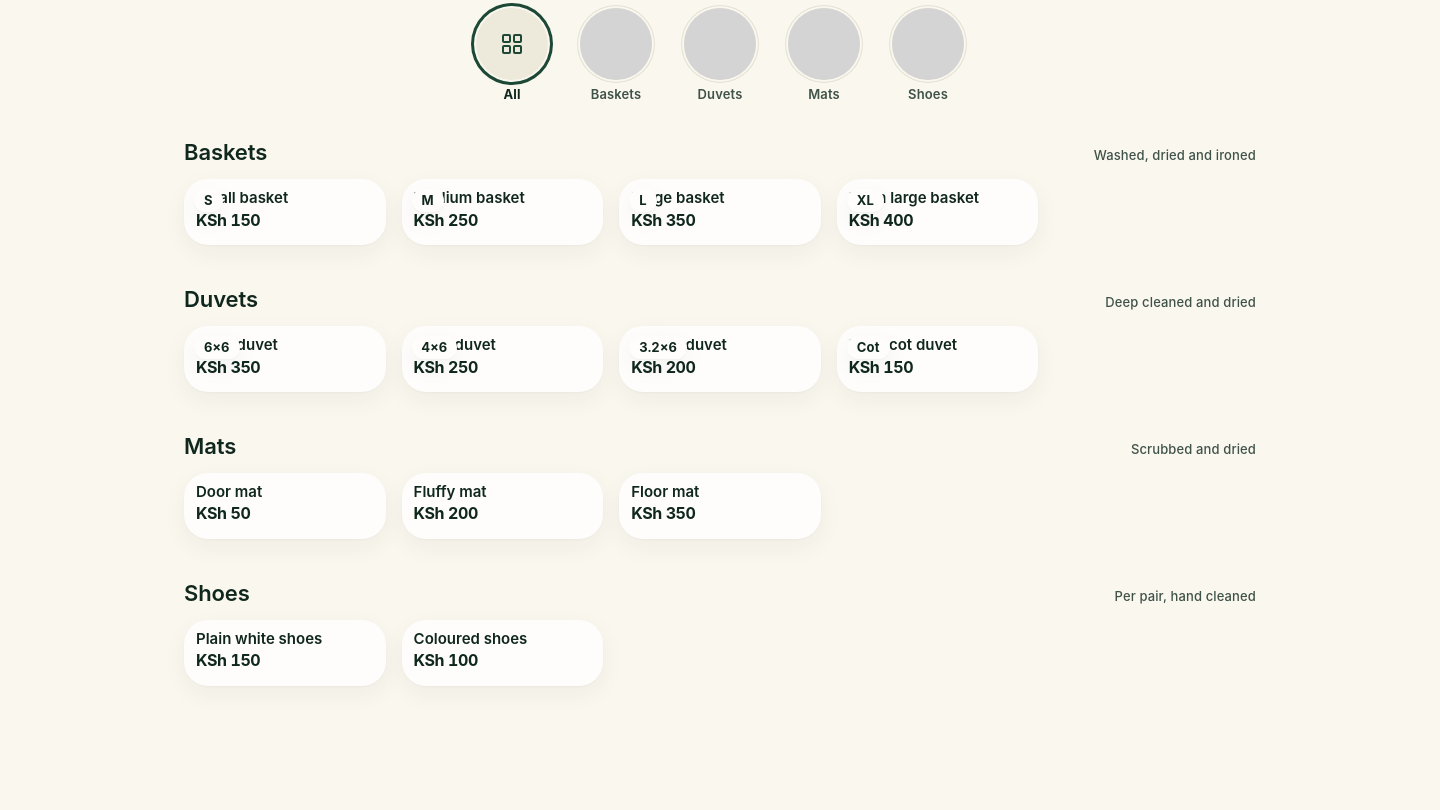
Scenario: LaundryOrder › returns within a week only, and notes a same-day return
Click the button with aria-label "Add Door mat": [285, 506] box [184,473,386,539]
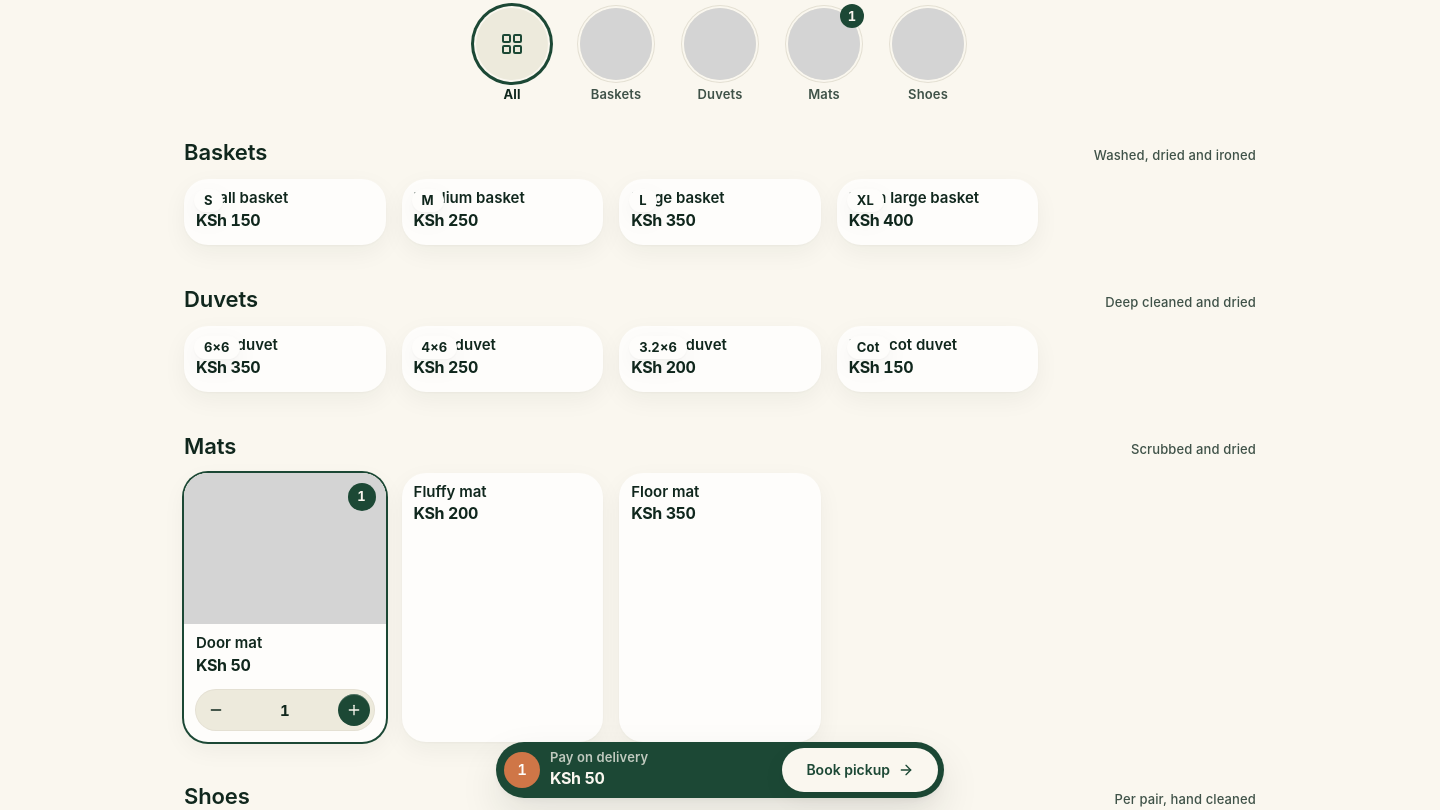
Click the button "Book pickup": [860, 770] box [782,748,938,792]
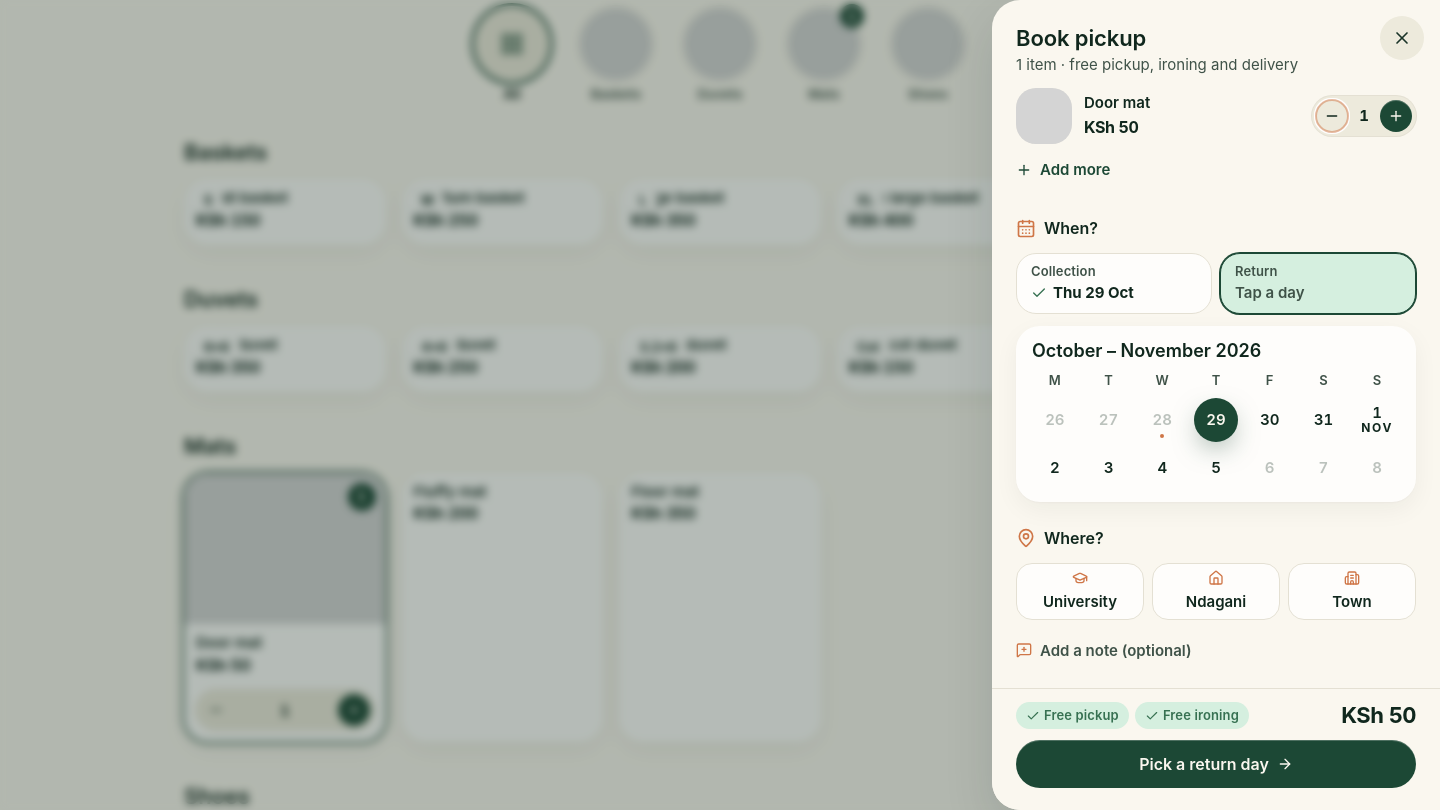
Click the radio button labelled "Return Tap a day": [1318, 283] box [1220,253,1416,314]
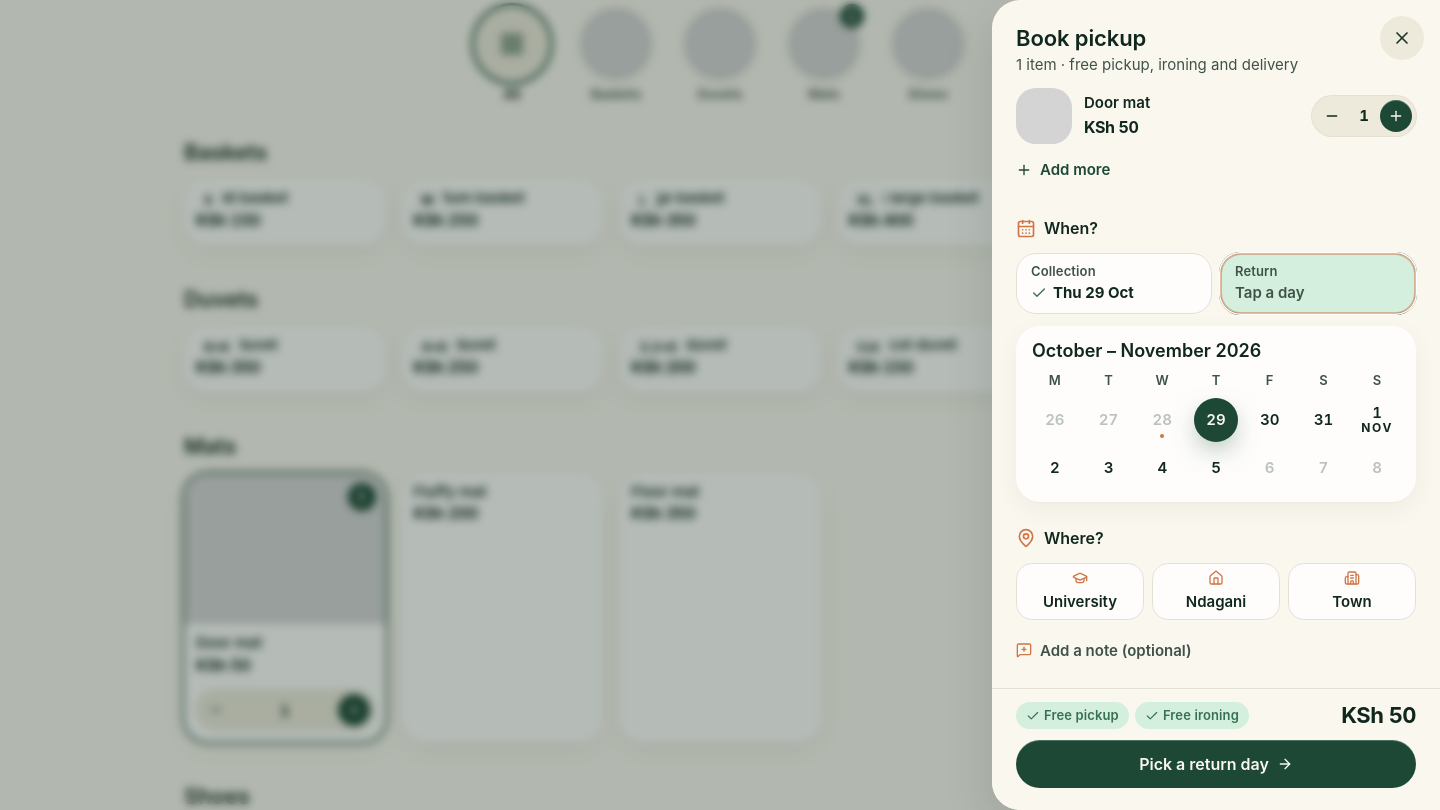
Check: the button named "Friday 6 November" is disabled, box [1248,446,1292,490]
Click the button named "Thursday 29 October": [1216, 420] box [1194,398,1238,442]
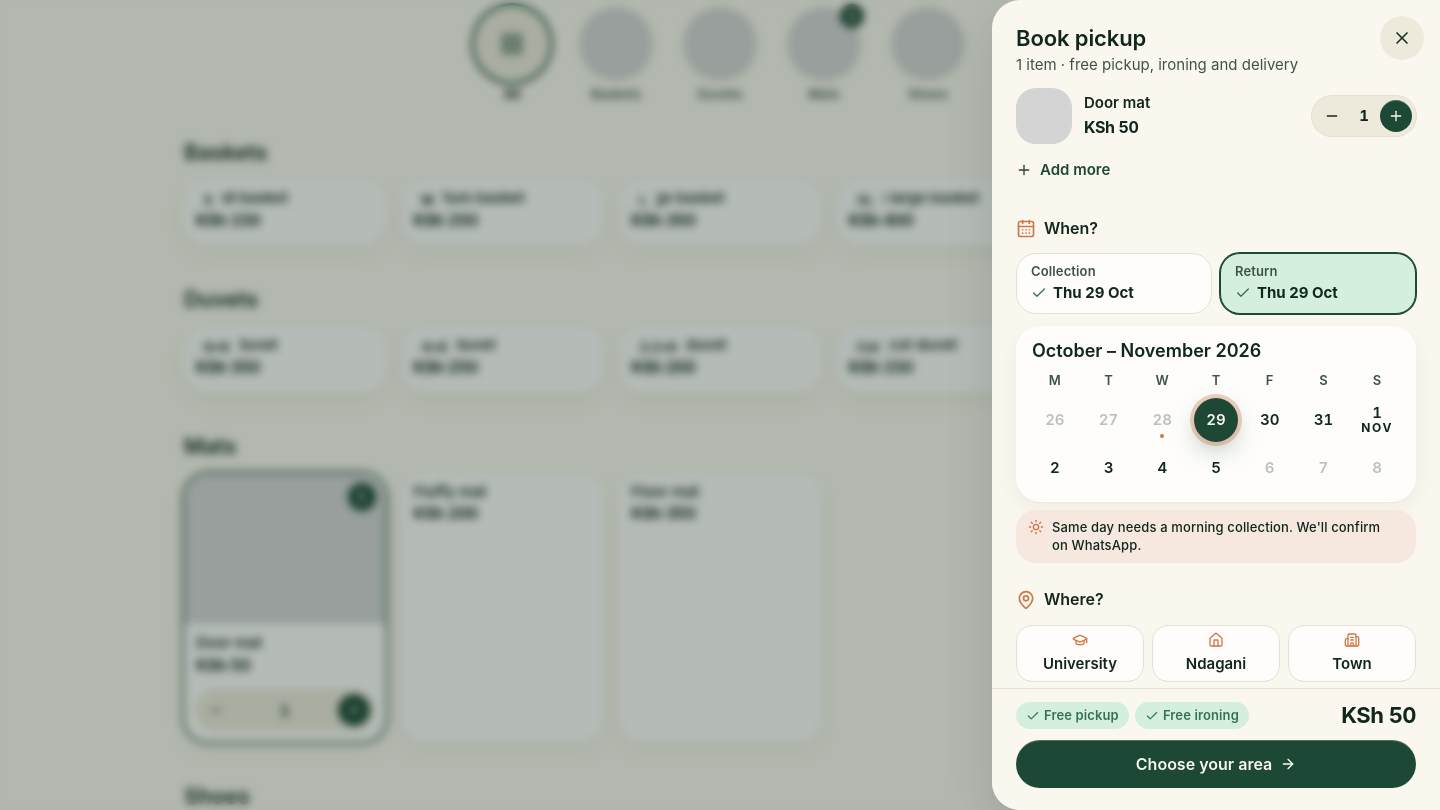
Check: the text "Same day needs a morning collection" is shown, box [1052,519,1380,553]
